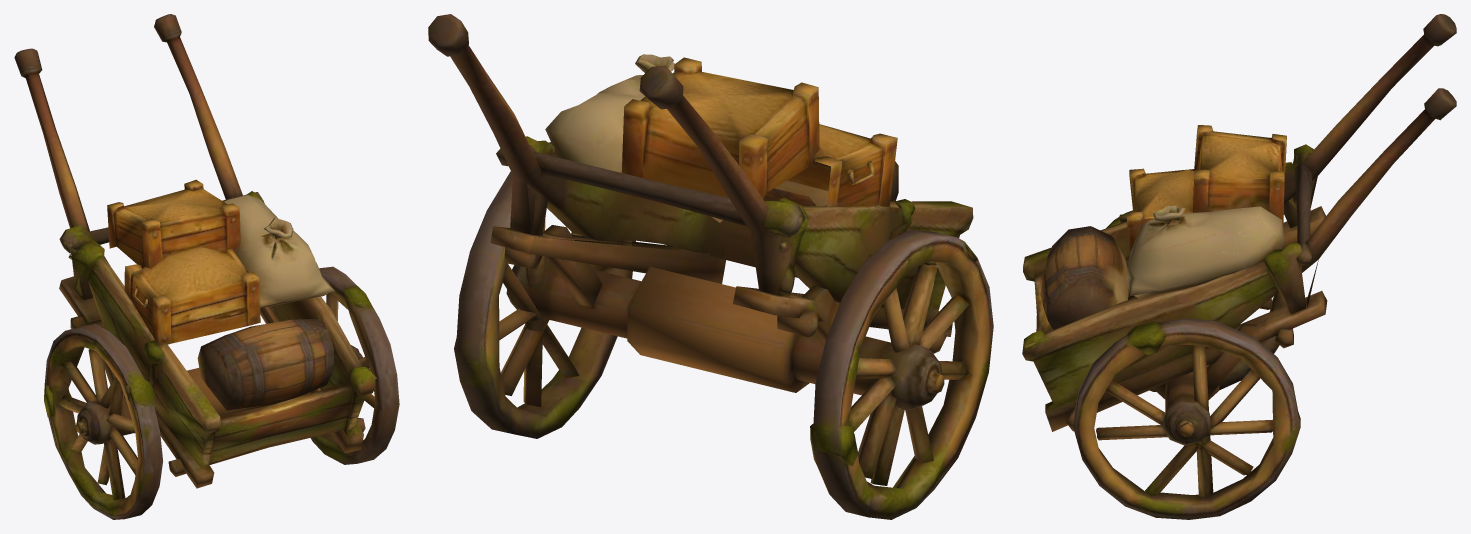
The model's file is town_prop_cart_goods.glb.
3 renders of one model, left to right at view 1: azimuth 30°, elevation 25°; view 2: azimuth 150°, elevation 25°; view 3: azimuth 270°, elevation 25°, orthographic. The views are drawn at different scales.
Parts seen in each view (by area): view 1: tripo_node_0109cb35-6a5b-48a4-9c22-4799ae5e42c7; view 2: tripo_node_0109cb35-6a5b-48a4-9c22-4799ae5e42c7; view 3: tripo_node_0109cb35-6a5b-48a4-9c22-4799ae5e42c7.
Part boxes in pixels (x1,y1,x2,y2): tripo_node_0109cb35-6a5b-48a4-9c22-4799ae5e42c7: [14, 14, 399, 519]; tripo_node_0109cb35-6a5b-48a4-9c22-4799ae5e42c7: [428, 14, 993, 519]; tripo_node_0109cb35-6a5b-48a4-9c22-4799ae5e42c7: [1022, 14, 1456, 519].
Bounding box in the file's own units: 1.62 × 2 × 1.98.
1 material, 1 textured.
